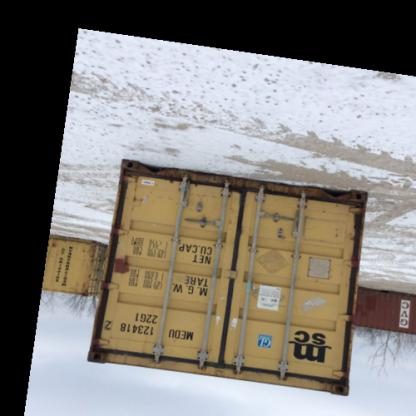Damage: (120, 160, 252, 198), (244, 174, 374, 212), (274, 360, 354, 401), (338, 184, 376, 250), (85, 342, 157, 372)
